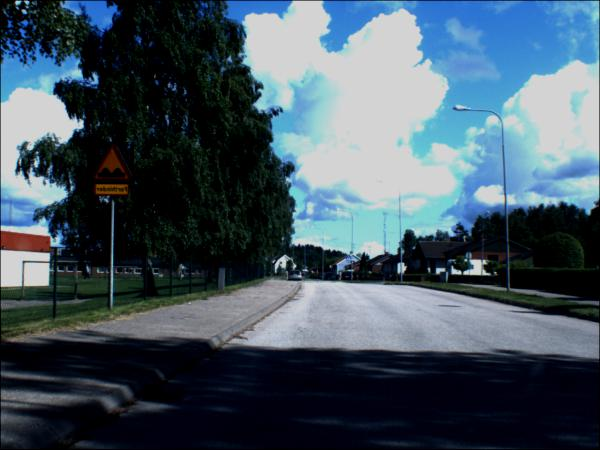WARNING: (87, 143, 135, 186)
